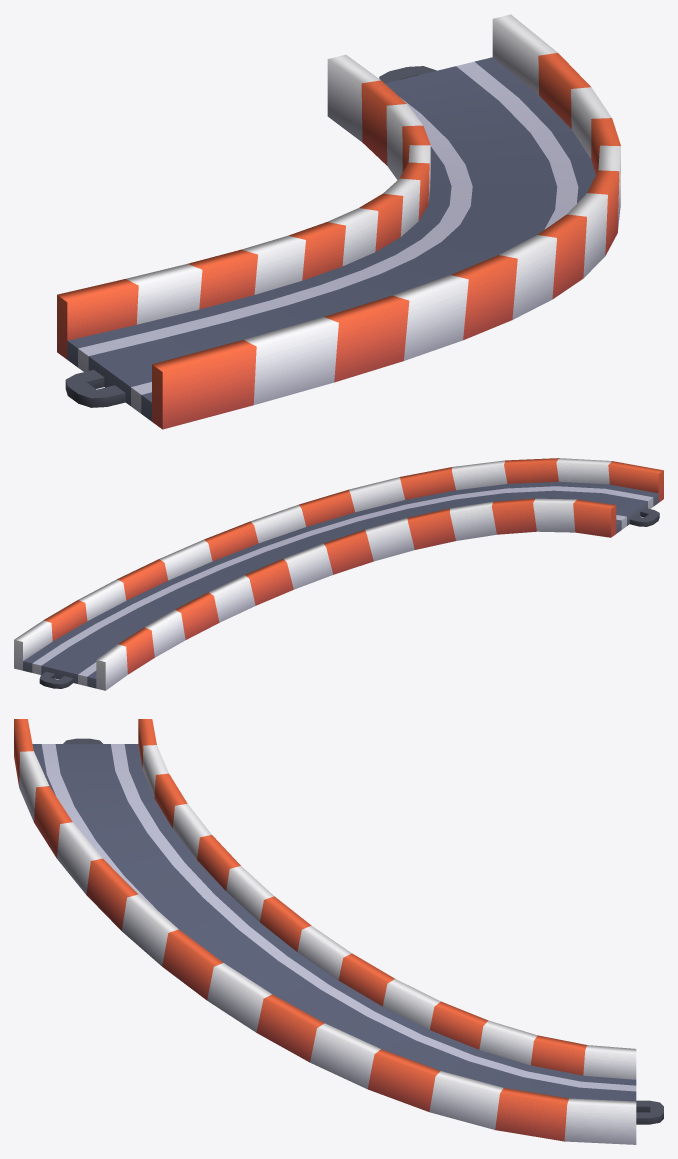
The model's file is track-road-narrow-corner-large-ramp.glb.
The picture shows the model from 3 angles, top to bottom: view 1: azimuth 30°, elevation 25°; view 2: azimuth 150°, elevation 25°; view 3: azimuth 270°, elevation 25°; orthographic projection. The views are drawn at different scales.
Visible parts, largest first — view 1: track-road-narrow-corner-large-ramp; view 2: track-road-narrow-corner-large-ramp; view 3: track-road-narrow-corner-large-ramp.
Boxes of the visible parts, bbox=[...] form: track-road-narrow-corner-large-ramp: bbox=[57, 14, 620, 429]; track-road-narrow-corner-large-ramp: bbox=[14, 458, 663, 690]; track-road-narrow-corner-large-ramp: bbox=[14, 719, 663, 1144].
Bounding box in the file's own units: 14.1 × 3.9 × 14.1.
Materials: 1 (1 with a texture image).
